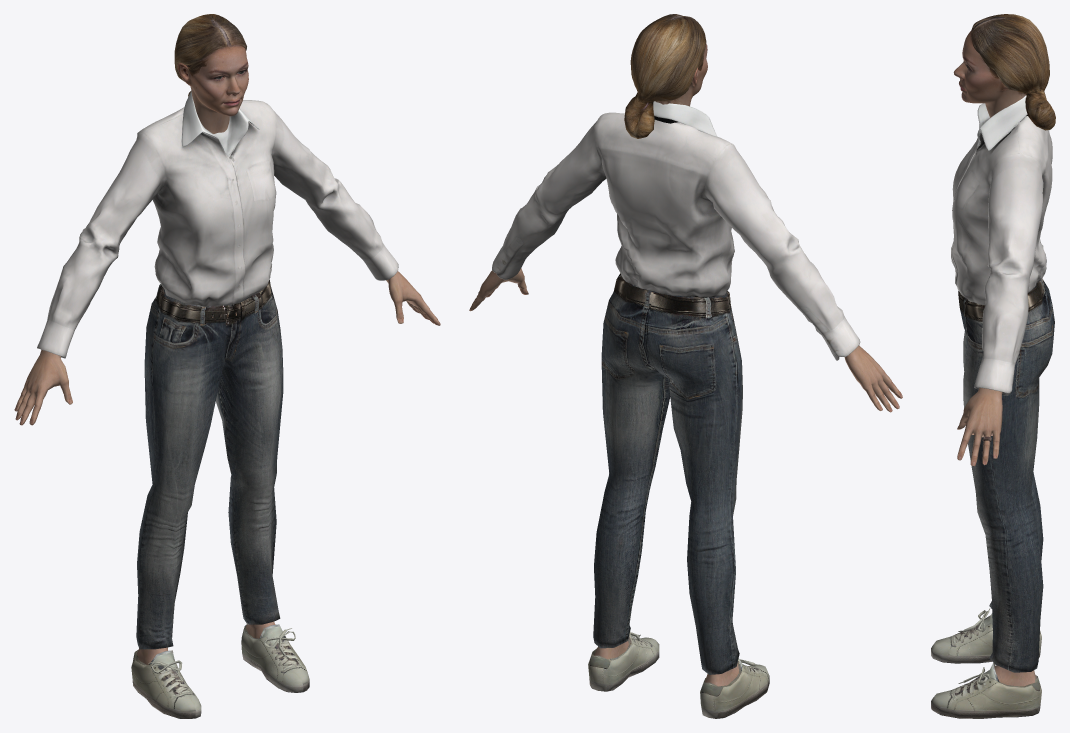
Rendered from Alice_Wake_2.obj.
3 views of the same model, side by side, from view 1: azimuth 30°, elevation 25°; view 2: azimuth 150°, elevation 25°; view 3: azimuth 270°, elevation 25° (orthographic).
Bounding box in the file's own units: 2.29 × 3.47 × 0.5894.
10 materials, 10 textured.
